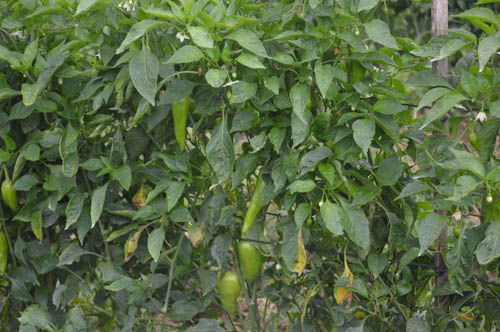ChiliPepper: (241, 172, 267, 237), (170, 95, 192, 156), (216, 272, 242, 314), (240, 240, 263, 286)
